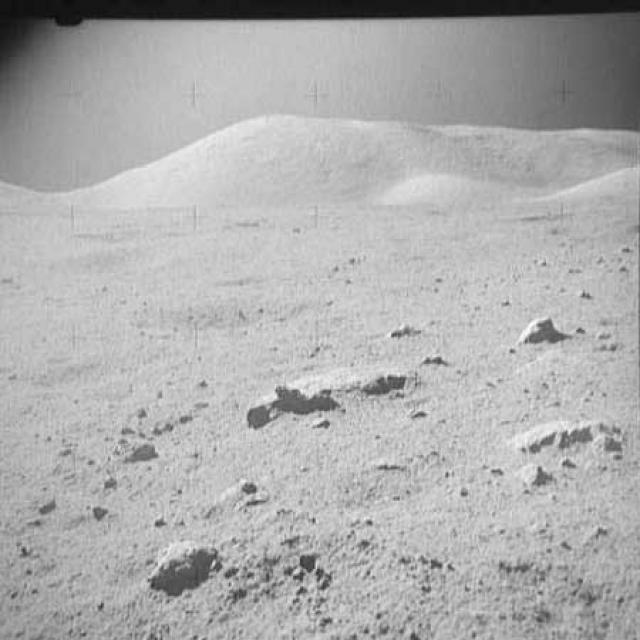crater: (128, 299, 328, 328)
rock: (228, 364, 418, 422), (502, 412, 622, 457), (144, 537, 224, 582), (517, 313, 562, 343), (120, 437, 157, 464), (390, 320, 420, 340)
